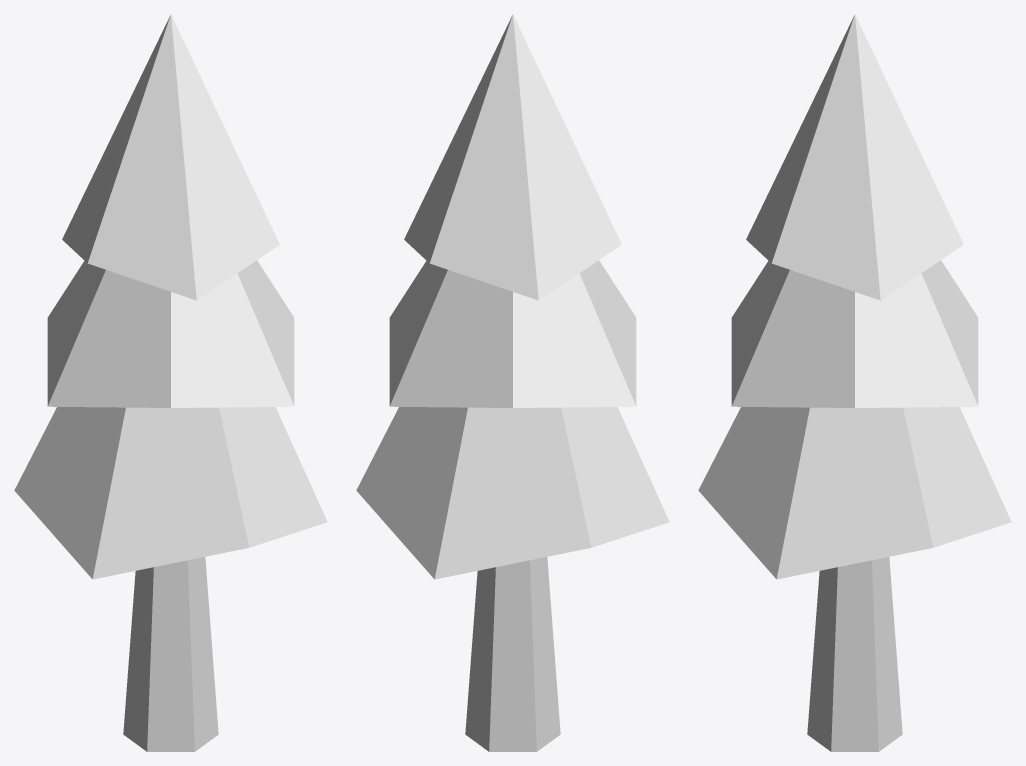
File: Tree.fbx
3 renders of one model, left to right at view 1: azimuth 30°, elevation 25°; view 2: azimuth 150°, elevation 25°; view 3: azimuth 270°, elevation 25°, orthographic.
Parts seen in each view (by area): view 1: Tree; view 2: Tree; view 3: Tree.
Part boxes in pixels (box(x1,y1,x2,y2)): Tree: box(14, 14, 327, 751); Tree: box(356, 14, 669, 751); Tree: box(698, 14, 1011, 751).
Bounding box in the file's own units: 59.14 × 150 × 53.76.
